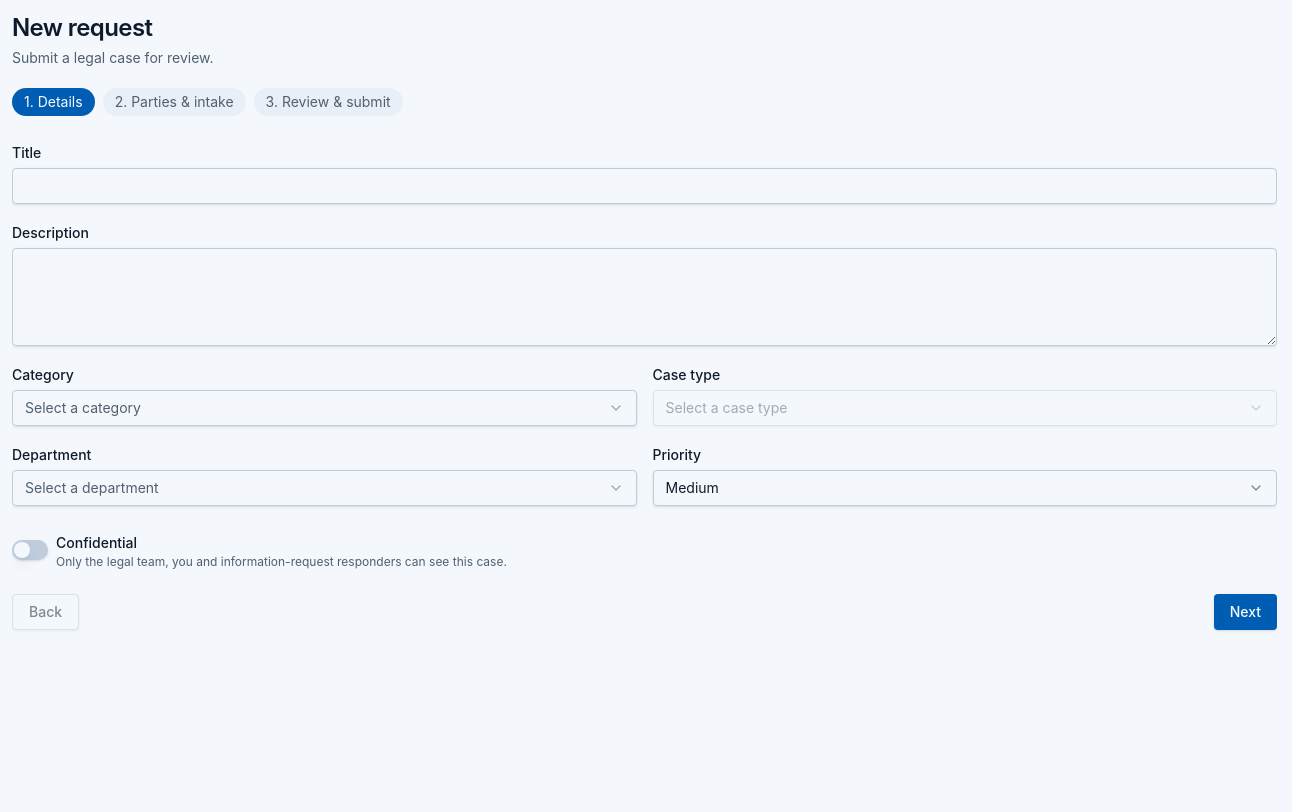
it: NewRequestPage › blocks Next on step 1 until the required fields are valid
This screenshot has width=1292, height=812.
Click the button "Next": (1245, 612) [1214,594,1277,630]
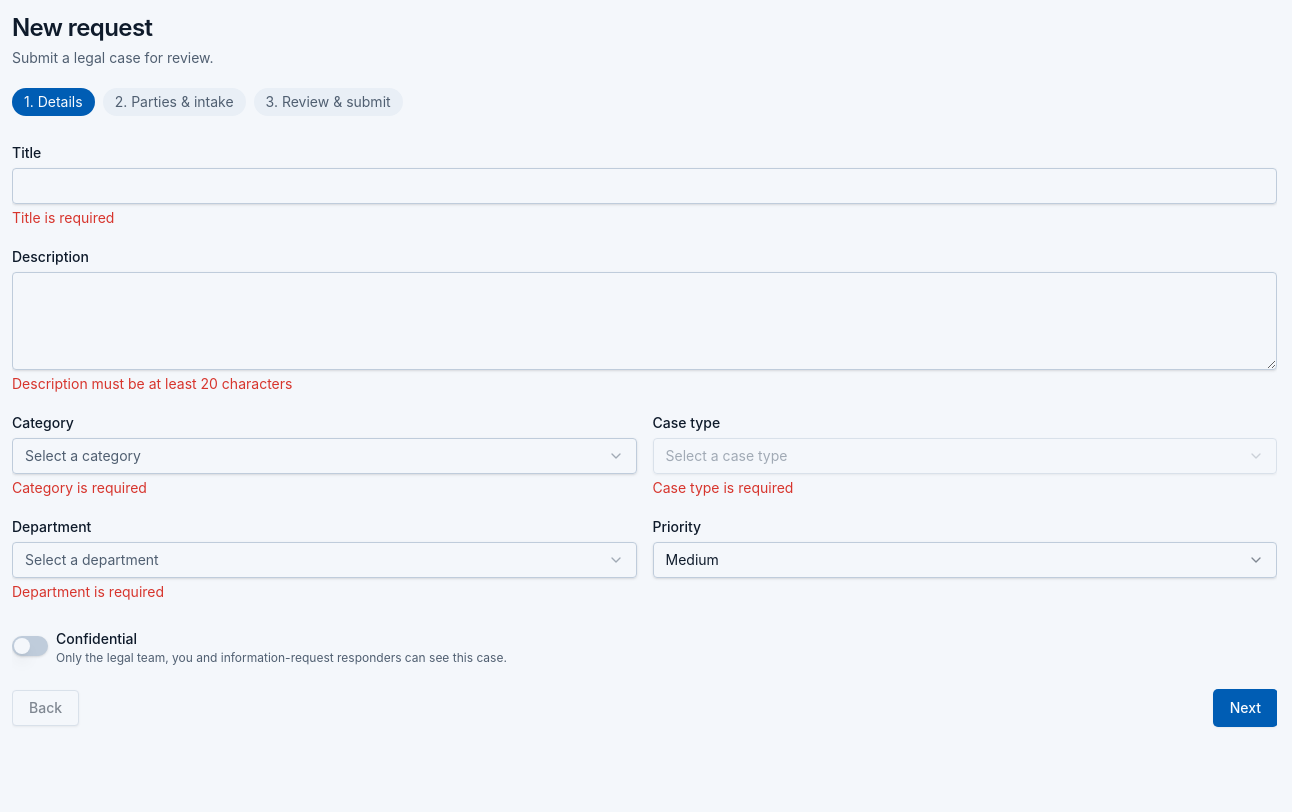
Expected: the field labelled "Title" is shown, [12,168,1277,204]
Expected: the text "Title is required" is shown, [12,209,114,226]
